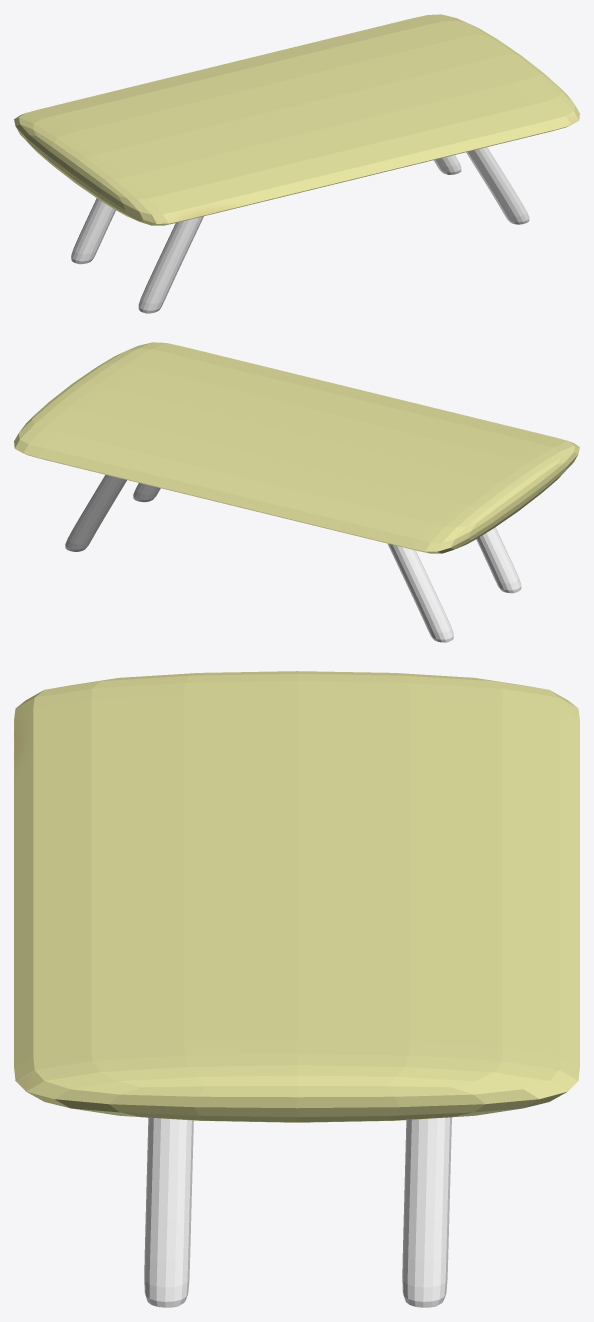
The model's file is MesaReunion_prefab.fbx.
The picture shows the model from 3 angles, top to bottom: view 1: azimuth 30°, elevation 25°; view 2: azimuth 150°, elevation 25°; view 3: azimuth 270°, elevation 25°; orthographic projection. The views are drawn at different scales.
Parts seen in each view (by area): view 1: Cube; view 2: Cube; view 3: Cube.
Part boxes in pixels (<box>): Cube: <box>14,14,579,313</box>; Cube: <box>14,342,579,642</box>; Cube: <box>14,671,579,1307</box>.
Size of the model in its own units: 797 by 230 by 455.
Materials: 1 (1 with a texture image).
